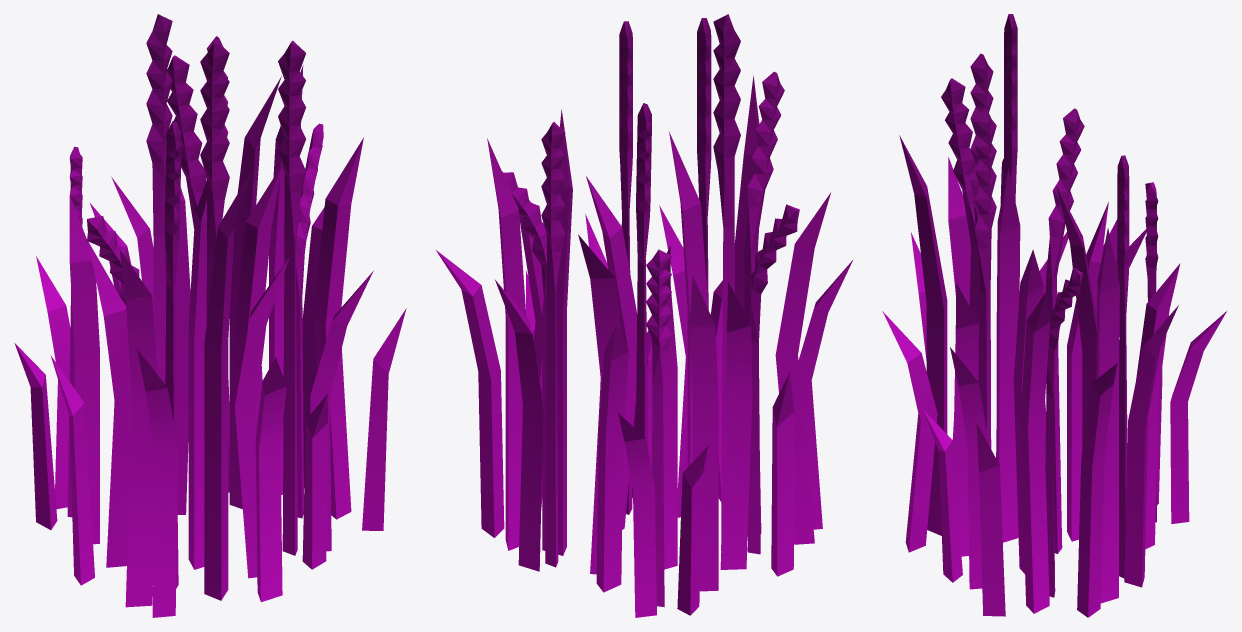
Rendered from SM_Prop_Plant_Wheat_03.fbx.
The picture shows the model from 3 angles, left to right: view 1: azimuth 30°, elevation 25°; view 2: azimuth 150°, elevation 25°; view 3: azimuth 270°, elevation 25°; orthographic projection. The views are drawn at different scales.
Visible parts, largest first — view 1: SM_Prop_Plant_Wheat_03; view 2: SM_Prop_Plant_Wheat_03; view 3: SM_Prop_Plant_Wheat_03.
Boxes of the visible parts, x1,y1,x2,y2 form: SM_Prop_Plant_Wheat_03: (14, 14, 406, 617); SM_Prop_Plant_Wheat_03: (435, 14, 852, 617); SM_Prop_Plant_Wheat_03: (882, 14, 1227, 617).
Bounding box in the file's own units: 74.6 × 119 × 73.34.
